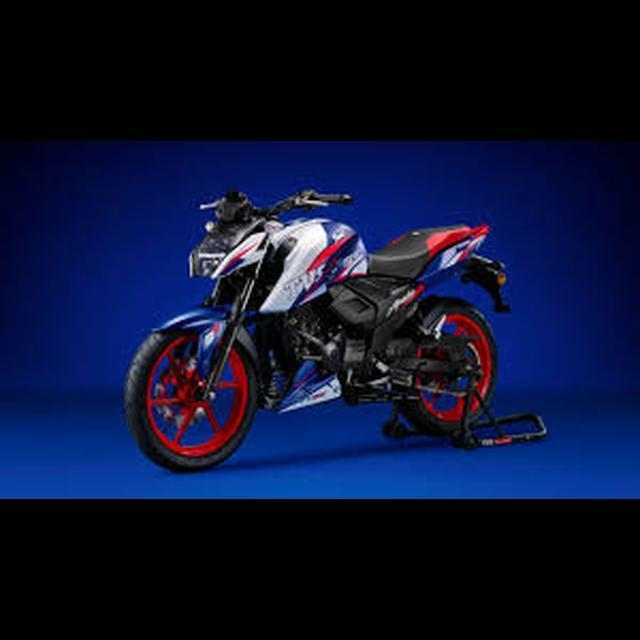motorcycle: (121, 177, 521, 479)
